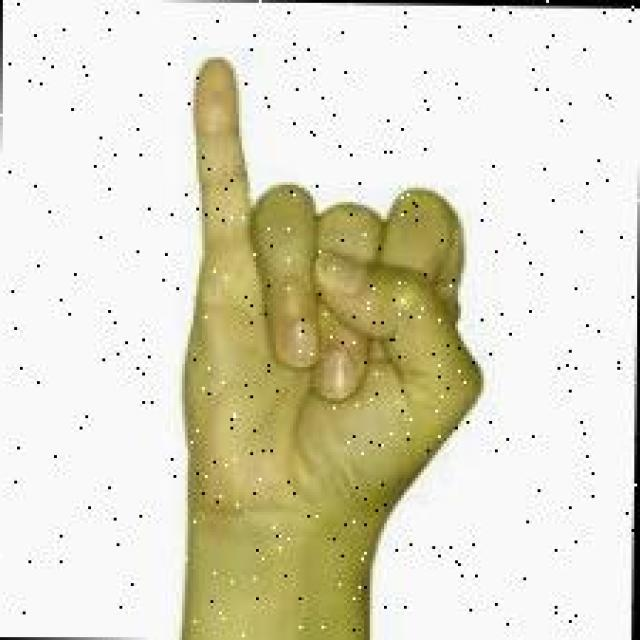I: (155, 42, 511, 538)
